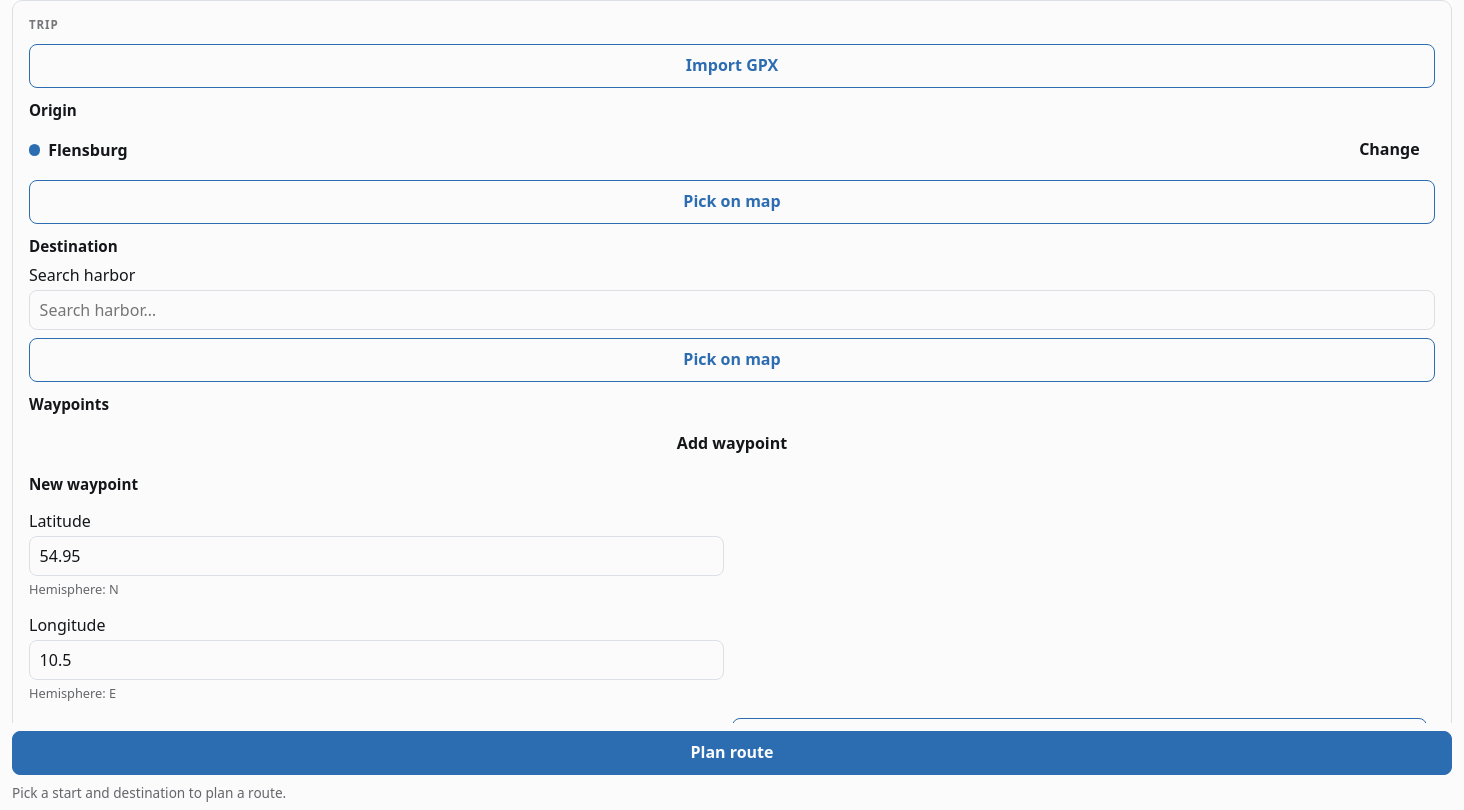
Test case: PlannerPanel › reopens the combobox when Change is clicked on a selected endpoint
Click the button "Change" at (1389, 150), box x1=1344 y1=128 x2=1435 y2=172
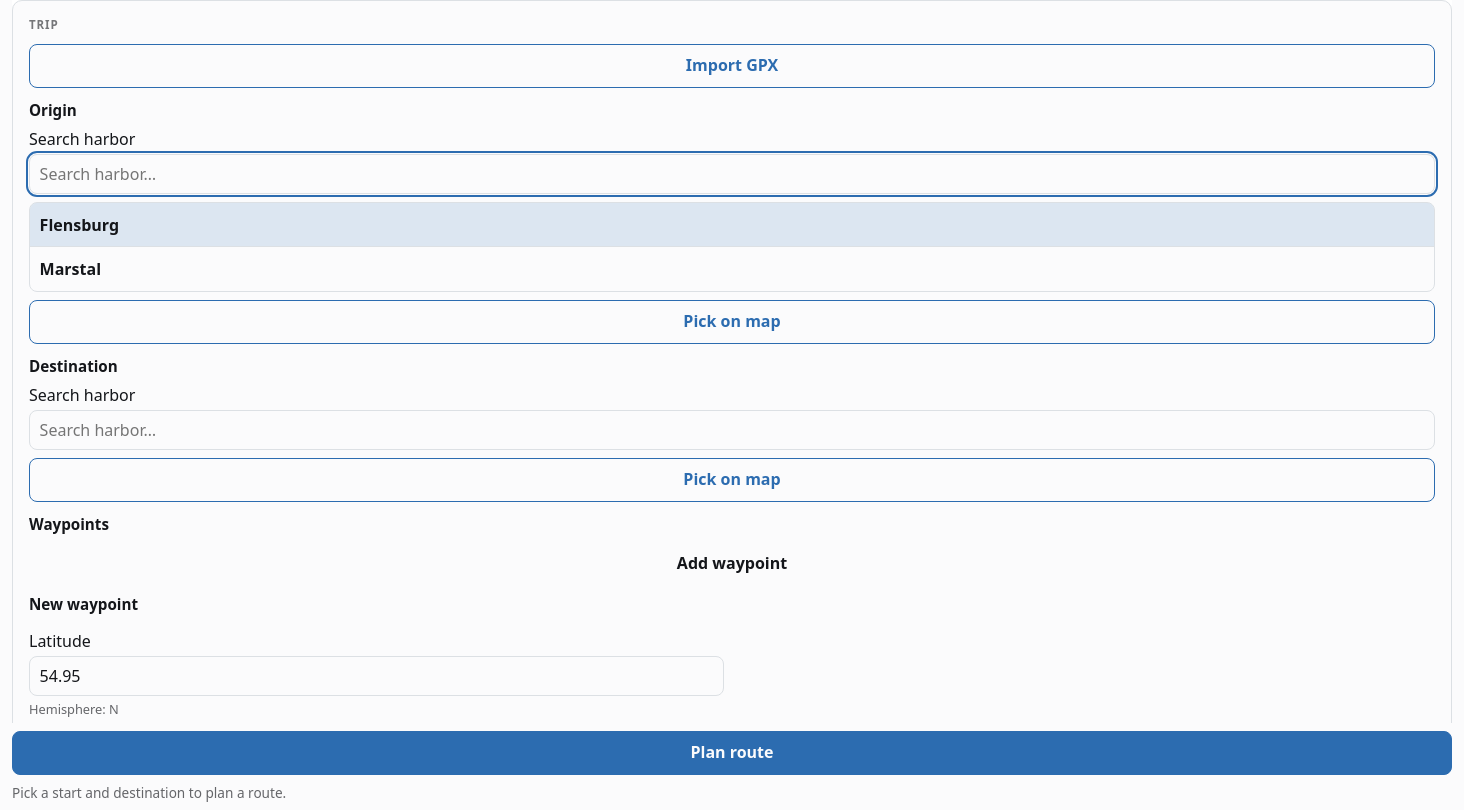
expect the dropdown labelled "Search harbor" below "Origin" is shown: met, box x1=29 y1=154 x2=1435 y2=194
